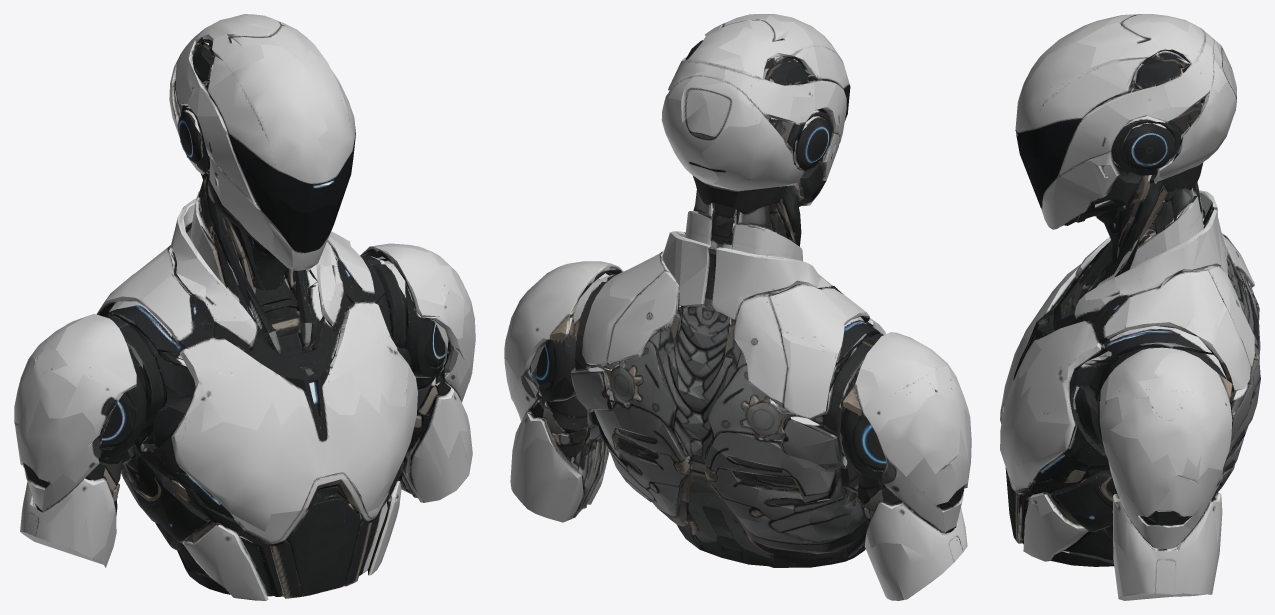
File: aizaz-sentinel.glb
3 views of the same model, side by side, from view 1: azimuth 30°, elevation 25°; view 2: azimuth 150°, elevation 25°; view 3: azimuth 270°, elevation 25° (orthographic). The views are drawn at different scales.
Visible parts, largest first — view 1: output_unwrapped; view 2: output_unwrapped; view 3: output_unwrapped.
Part boxes in pixels (left/top/right/bottom): output_unwrapped: left=14, top=14, right=475, bottom=600; output_unwrapped: left=504, top=14, right=971, bottom=600; output_unwrapped: left=1000, top=14, right=1260, bottom=600.
Bounding box in the file's own units: 1.71 × 1.9 × 0.8902.
1 material, 1 textured.
